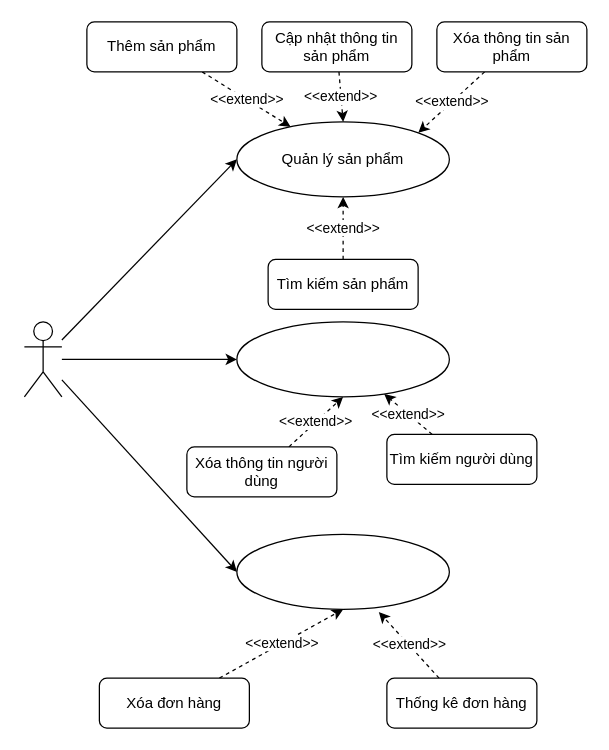
This 609x750 diagram has some shape labels left out. The shapes that lost their labels are listed below. From the top down, each one's centre as x and y in pixels, then its label:
(x=42, y=359): Admin
(x=342, y=359): Quản lý người dùng
(x=342, y=571): Quản lý đơn hàng
